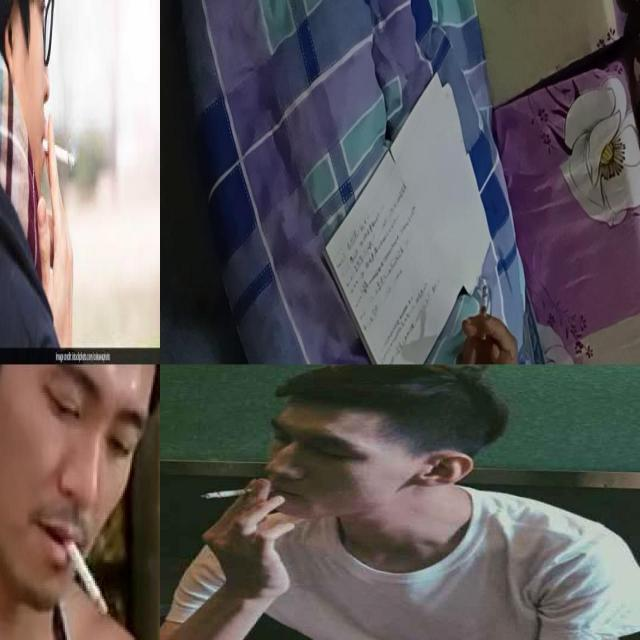smoke: (60, 530, 108, 616), (41, 134, 76, 168), (200, 486, 278, 499), (480, 286, 488, 340)
